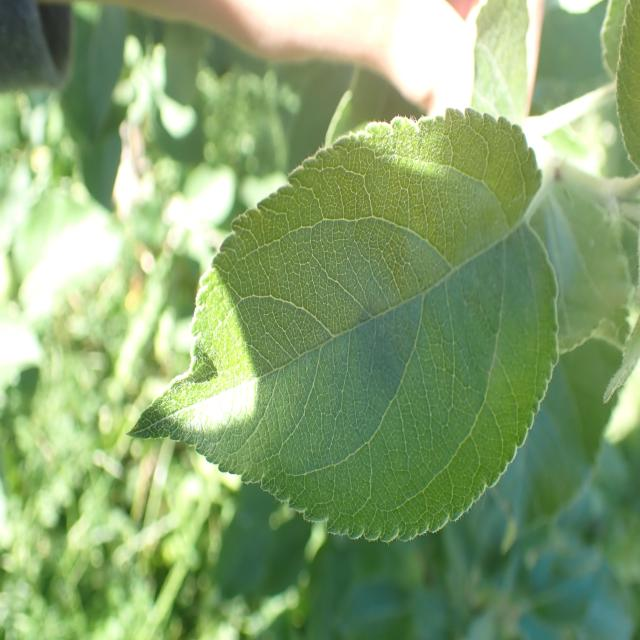healthy: (124, 107, 560, 544), (615, 0, 640, 172)
